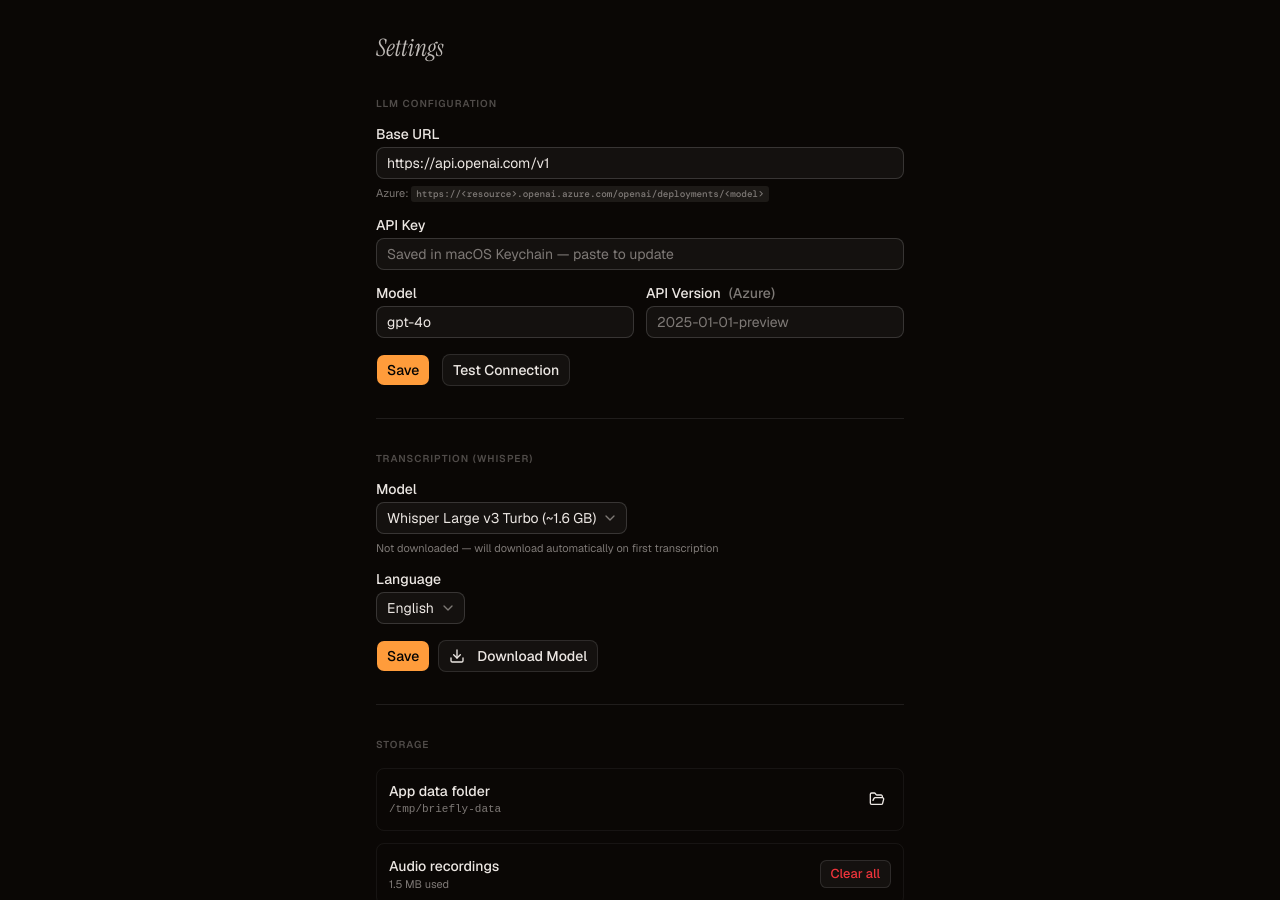
Test: Settings — clear-all dialog › clears recordings and resets disk usage on confirm
Expected: the text "1.5 MB used" is shown, left=389, top=876, right=449, bottom=890
Click the button "Clear all". click: (855,874)
box: left=820, top=860, right=891, bottom=888
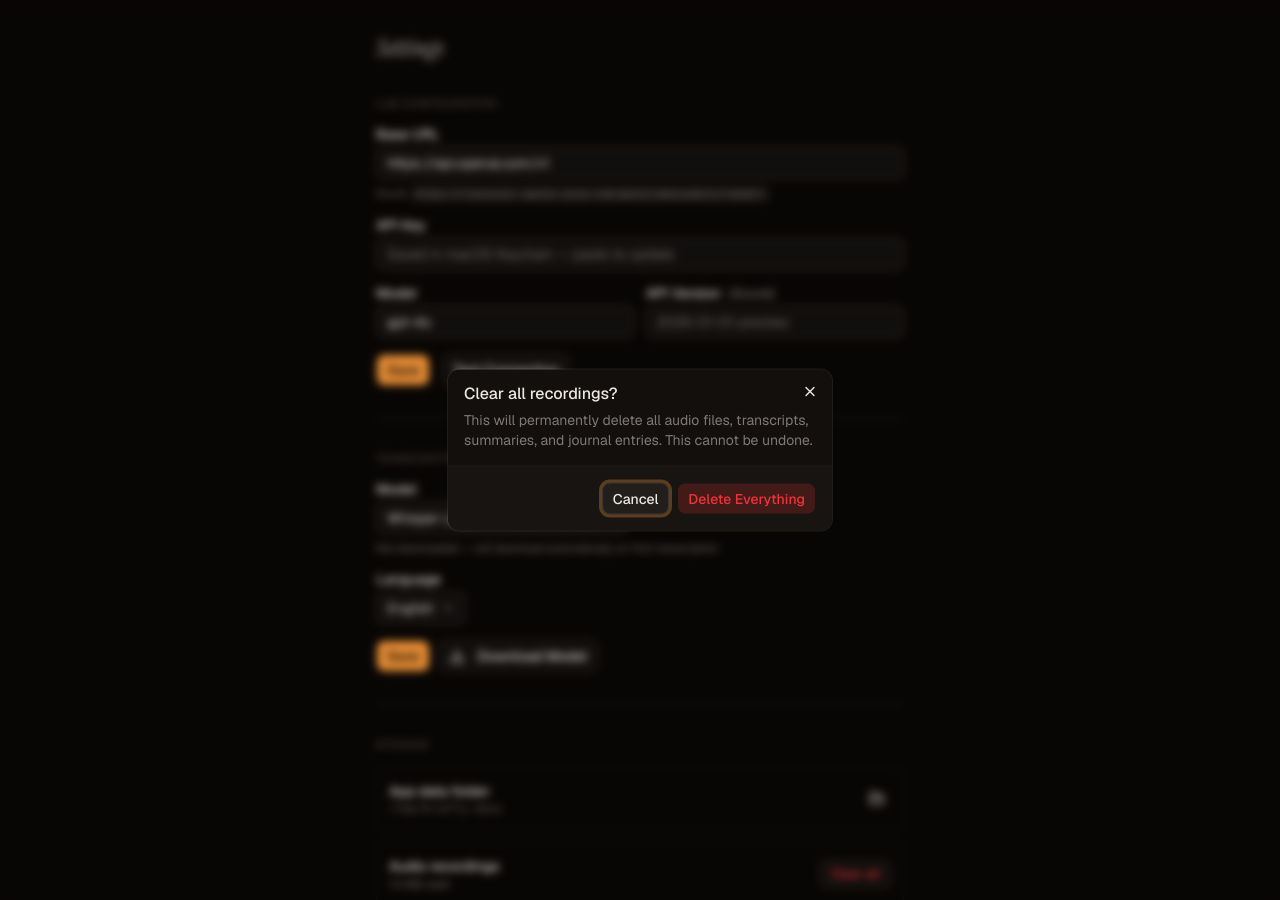
Click the button "Delete Everything". click: (747,498)
box: left=677, top=482, right=816, bottom=514
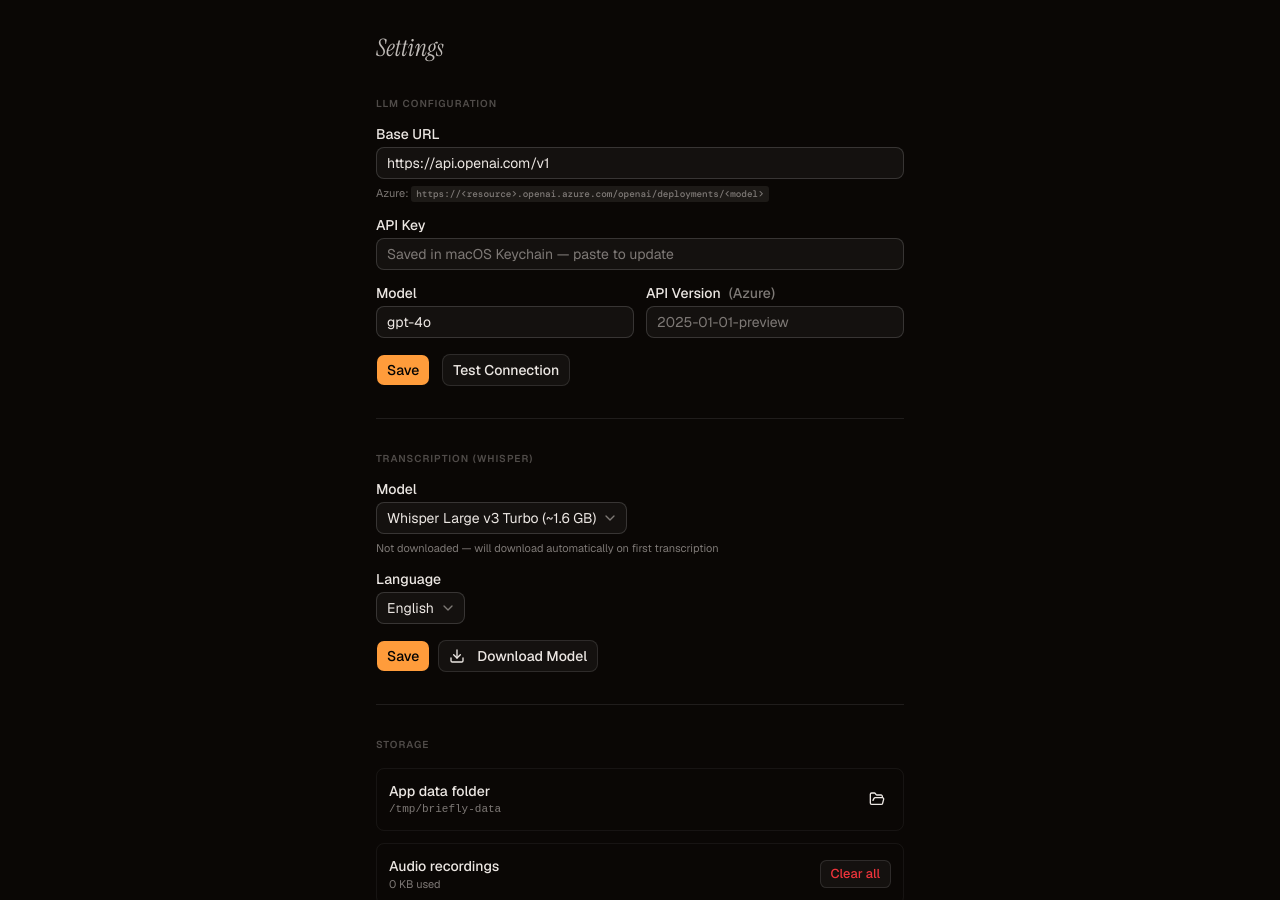
Now the text "0 KB used" is shown, box left=389, top=876, right=441, bottom=890
